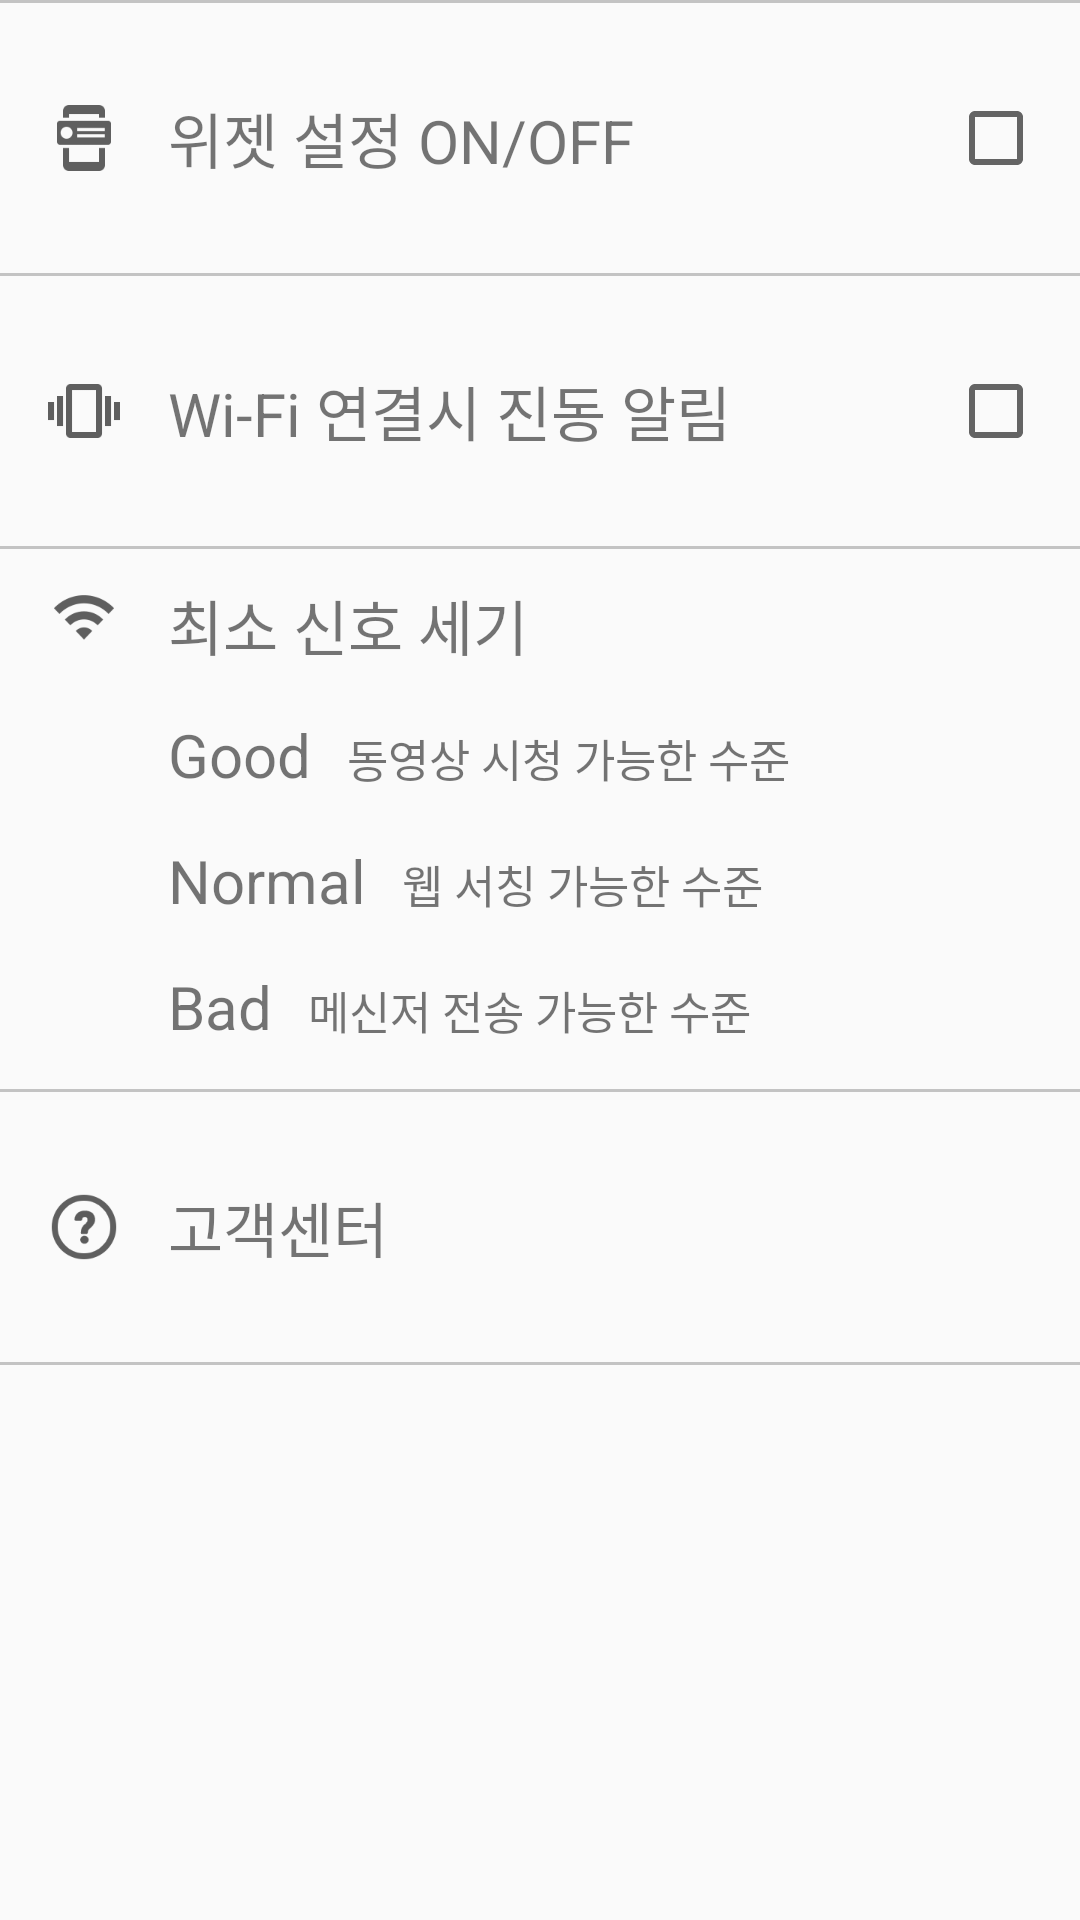

Where icons sit on this 1080x1920 app screen, as (x1, y1, x2, y2):
help: (51, 1194, 117, 1260)
signal: (54, 595, 114, 640)
vib: (48, 384, 120, 438)
widget: (57, 105, 111, 171)
